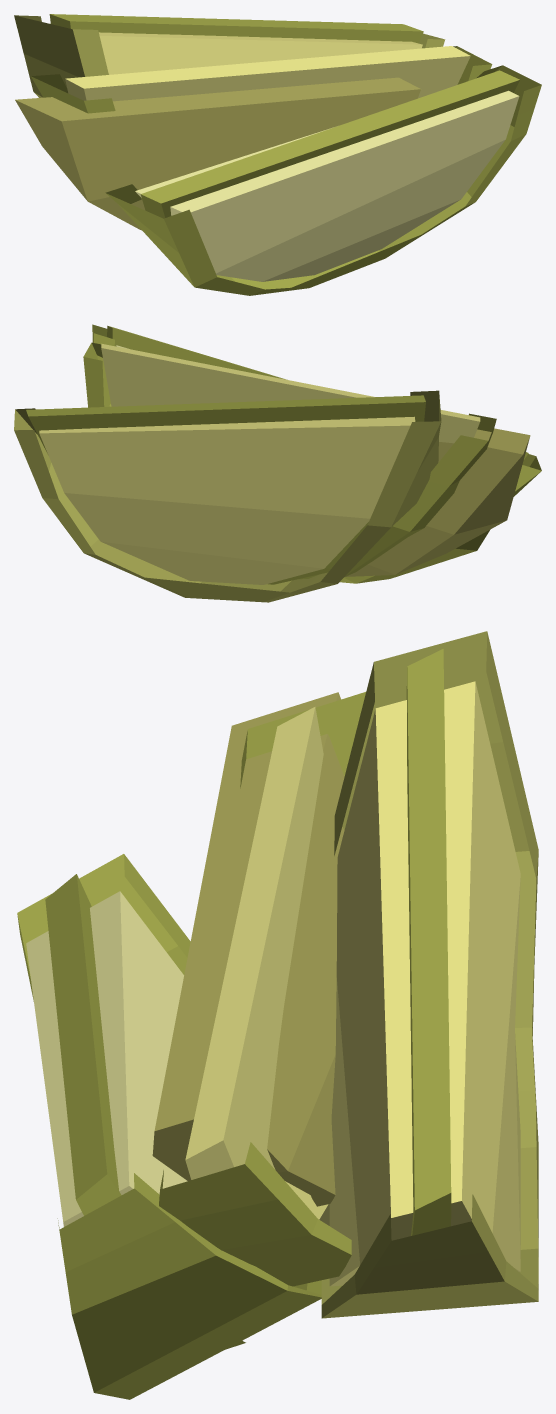
Rendered from LemonSlices.fbx.
3 renders of one model, top to bottom at view 1: azimuth 30°, elevation 25°; view 2: azimuth 150°, elevation 25°; view 3: azimuth 270°, elevation 25°, orthographic. The views are drawn at different scales.
Visible parts, largest first — view 1: OutsideLemon.002; view 2: OutsideLemon.002; view 3: OutsideLemon.002.
Part boxes in pixels (x1,y1,x2,y2): OutsideLemon.002: (14, 14, 541, 295); OutsideLemon.002: (14, 324, 541, 602); OutsideLemon.002: (17, 631, 538, 1399).
Bounding box in the file's own units: 4.84 × 2.64 × 2.39.
